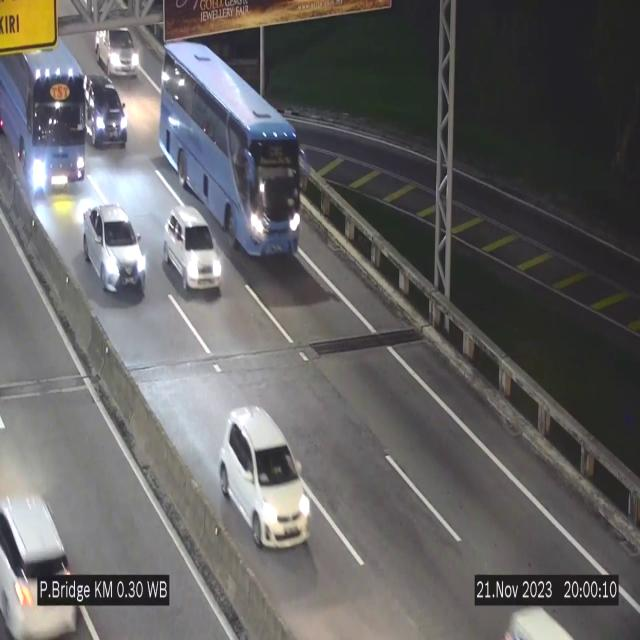Bus: (158, 42, 304, 266), (0, 44, 87, 204), (92, 31, 140, 81)
Car: (0, 476, 80, 639), (219, 408, 311, 548), (83, 205, 147, 297), (163, 206, 223, 296), (83, 73, 127, 147)
